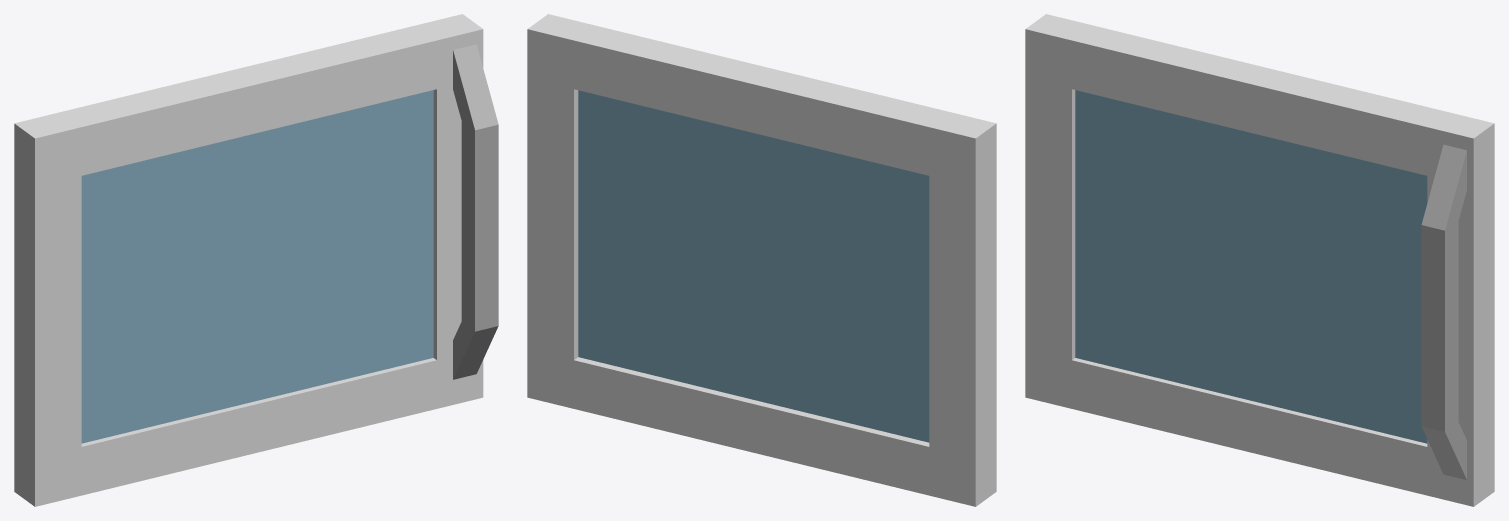
Rendered from Microwave_C1_02.fbx.
3 renders of one model, left to right at view 1: azimuth 30°, elevation 25°; view 2: azimuth 150°, elevation 25°; view 3: azimuth 330°, elevation 25°, orthographic.
Parts seen in each view (by area): view 1: Microwave_C1_02; view 2: Microwave_C1_02; view 3: Microwave_C1_02.
Boxes of the visible parts, <box> form: Microwave_C1_02: <box>14,14,498,506</box>; Microwave_C1_02: <box>527,14,996,506</box>; Microwave_C1_02: <box>1025,14,1494,506</box>.
Bounding box in the file's own units: 36.93 × 29 × 6.1.
